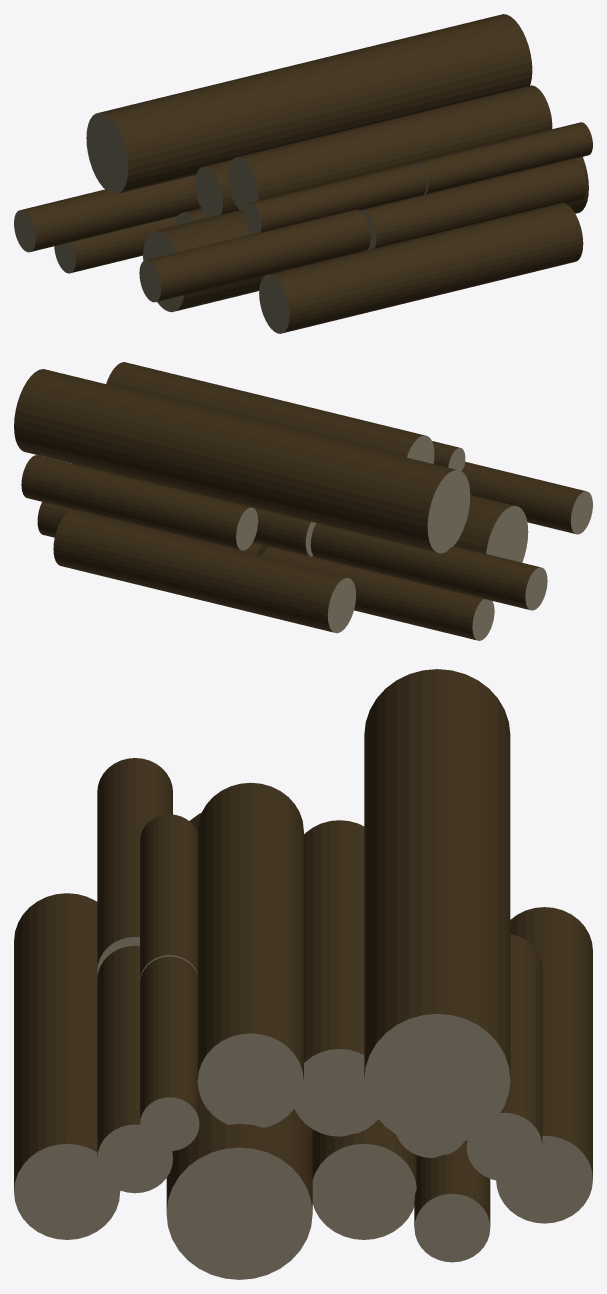
File: Wood.fbx
The picture shows the model from 3 angles, top to bottom: view 1: azimuth 30°, elevation 25°; view 2: azimuth 150°, elevation 25°; view 3: azimuth 270°, elevation 25°; orthographic projection. The views are drawn at different scales.
Visible parts, largest first — view 1: Cylinder.015; view 2: Cylinder.015; view 3: Cylinder.015.
Boxes of the visible parts, x1,y1,x2,y2 form: Cylinder.015: [14, 14, 592, 333]; Cylinder.015: [14, 362, 592, 640]; Cylinder.015: [14, 669, 592, 1279].
Size of the model in its own units: 558 by 168 by 328.
